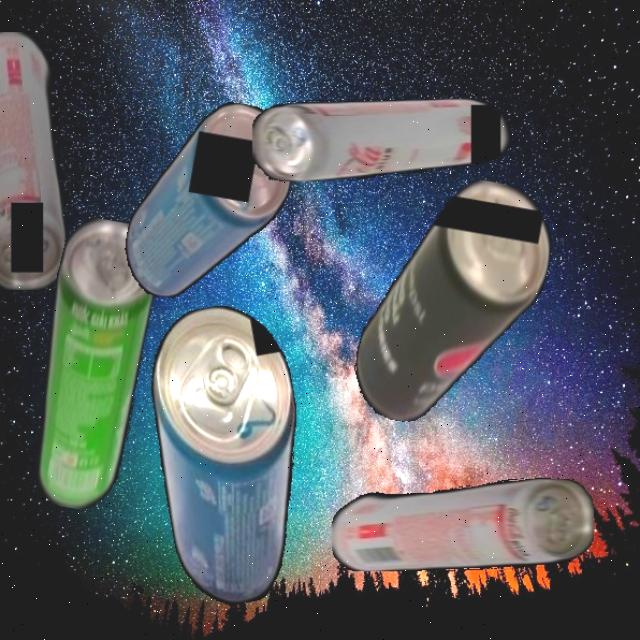debris: (136, 296, 328, 612), (346, 165, 562, 442), (18, 214, 165, 515), (118, 89, 302, 315), (331, 478, 594, 571), (252, 98, 514, 182), (0, 31, 66, 290)
